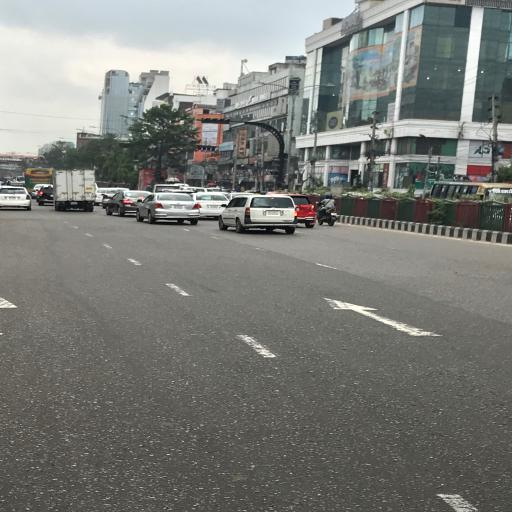bus: (427, 182, 512, 202), (26, 168, 54, 193)
car: (136, 193, 201, 227), (270, 194, 317, 229), (105, 191, 153, 218), (192, 192, 231, 220), (1, 187, 34, 213), (102, 188, 130, 210), (37, 185, 54, 208)
motorbike: (317, 194, 339, 228)
pickup: (53, 170, 97, 215)
suv: (218, 196, 301, 236)
